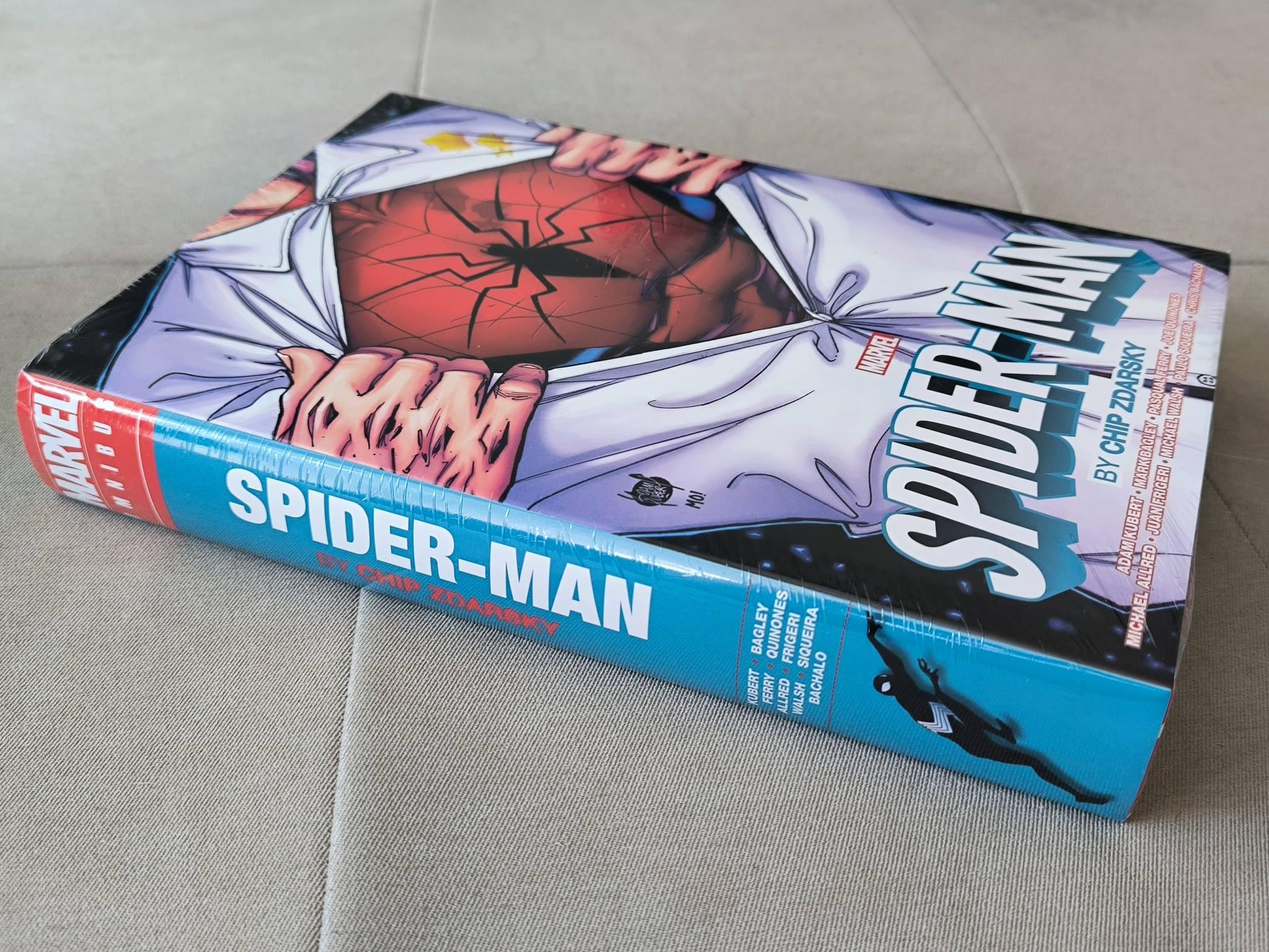comic: (20, 0, 1269, 690)
